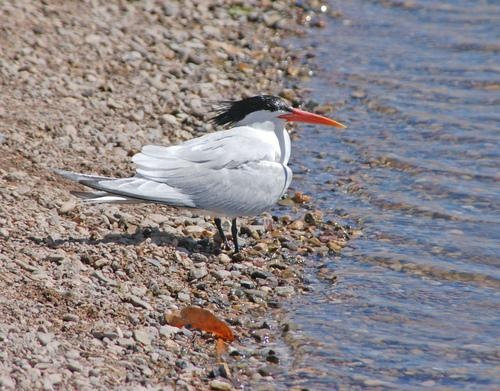bird: (48, 94, 350, 260)
